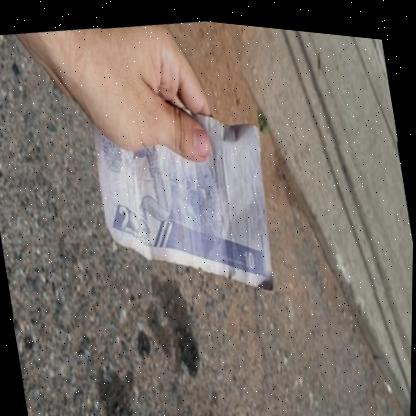ten-back-vef: (85, 77, 287, 309)
